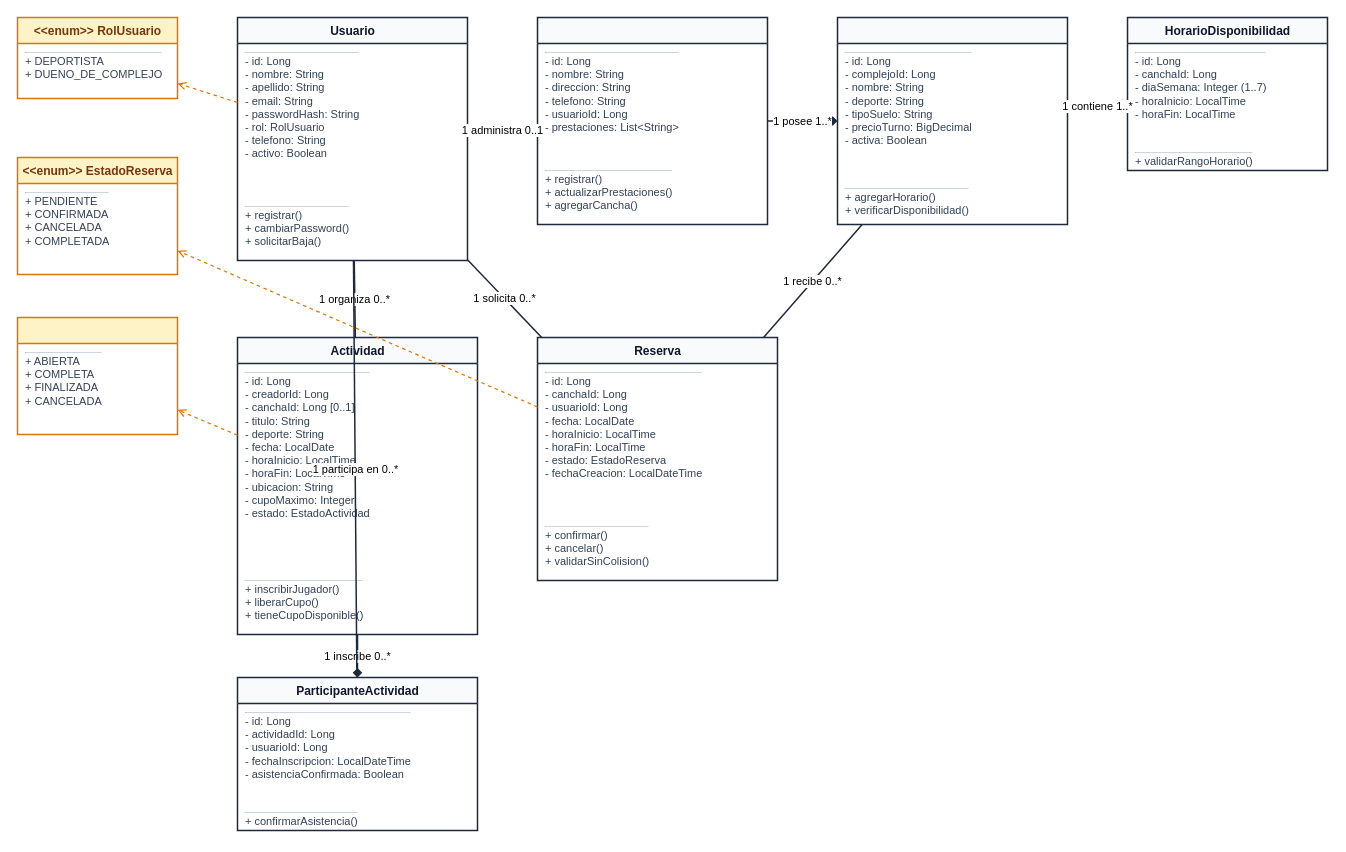
This 1346x852 diagram has some shape labels left out. Here are the shapes that lost their labels. From the top down, the box of each, then its label:
(536, 16, 768, 225): Complejo
(836, 16, 1068, 225): Cancha
(16, 316, 178, 435): <<enum>> EstadoActividad
